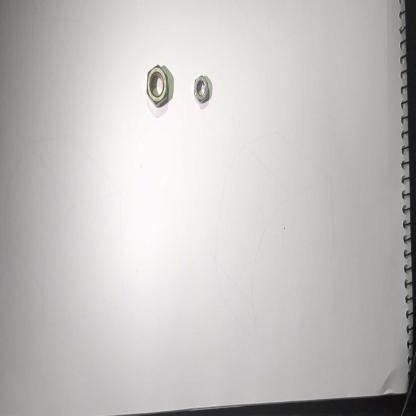NUTS: (139, 59, 172, 111), (192, 67, 212, 110)
